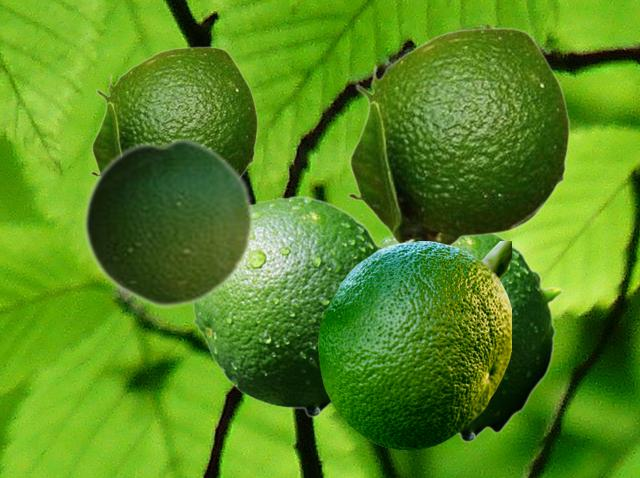dalandan: (346, 27, 569, 245), (191, 195, 383, 417), (318, 241, 510, 449), (377, 234, 562, 442), (82, 135, 254, 309), (89, 46, 257, 176)
